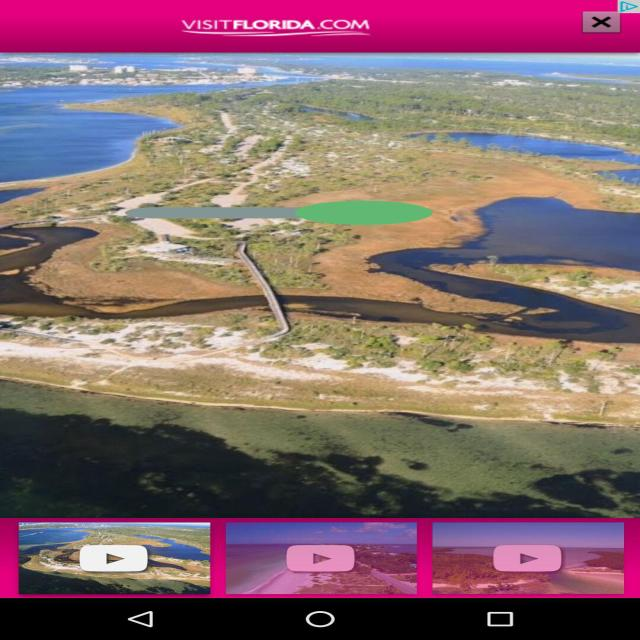social proof: (125, 186, 433, 240)
